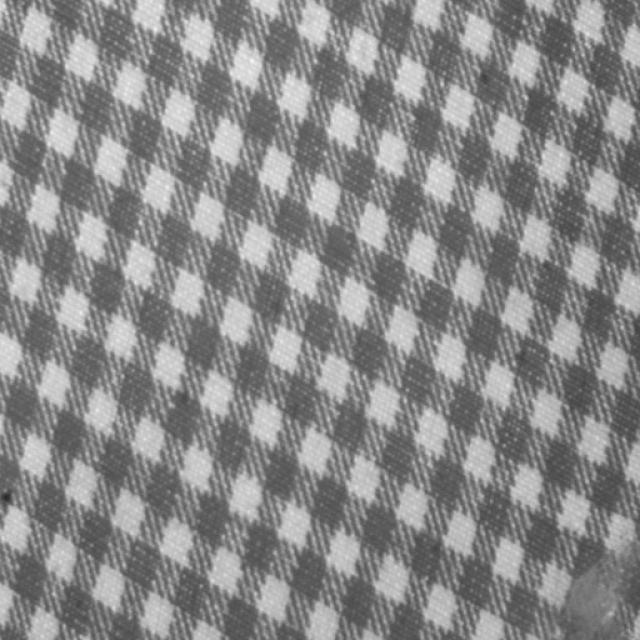Stain-Defect: (561, 545, 639, 639)
